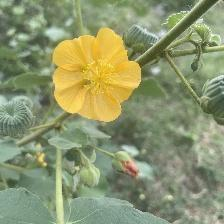indian mallow: (52, 27, 142, 125)
